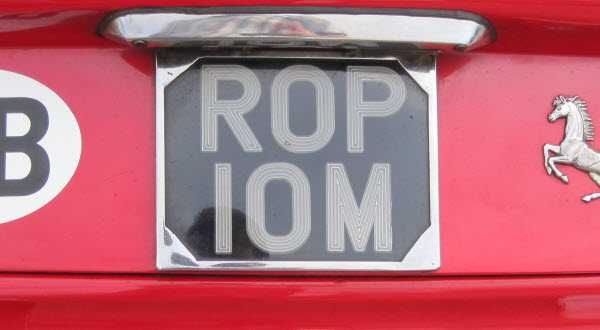license_plate: (155, 46, 440, 273)
